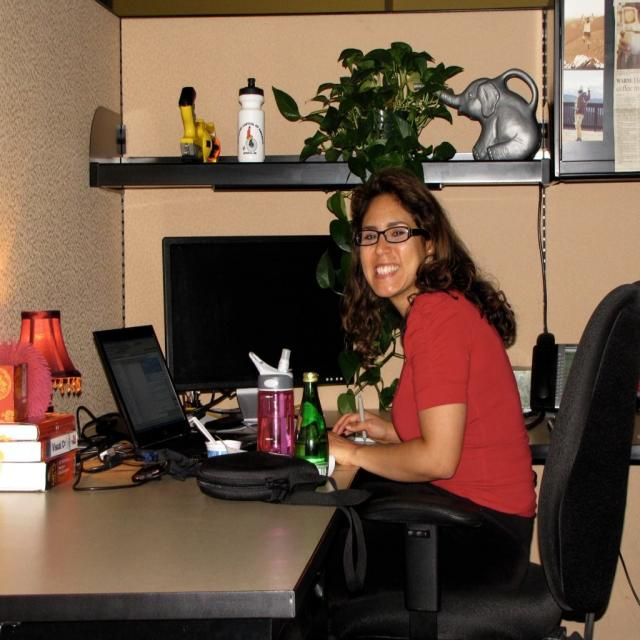chair: (323, 284, 640, 639)
desk: (9, 355, 332, 589)
laptop: (93, 324, 213, 460)
person: (329, 170, 537, 618)
tv: (161, 235, 343, 392)
